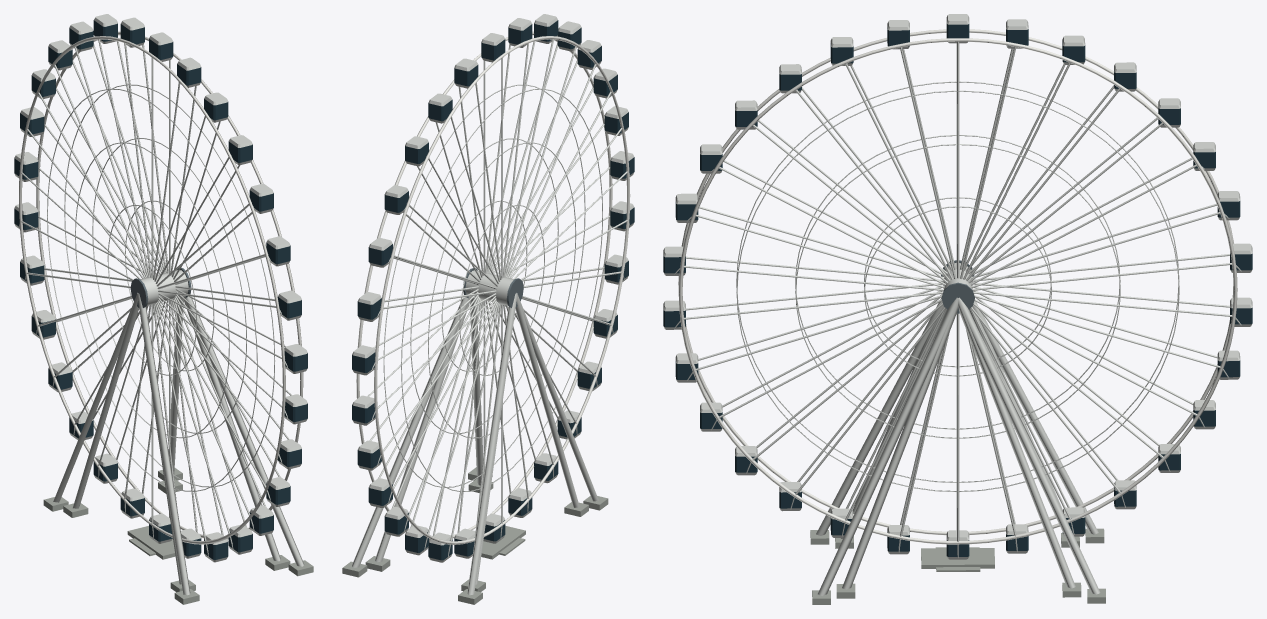
The model's file is the-wheel-icon-park-far.glb.
3 views of the same model, side by side, from view 1: azimuth 30°, elevation 25°; view 2: azimuth 150°, elevation 25°; view 3: azimuth 270°, elevation 25° (orthographic). The views are drawn at different scales.
Visible parts, largest first — view 1: the-wheel-icon-park-0-structure, the-wheel-icon-park-0-glass, the-wheel-icon-park-0-glow, the-wheel-icon-park-0-concrete, the-wheel-icon-park-0-light, the-wheel-icon-park-0-hardware; view 2: the-wheel-icon-park-0-structure, the-wheel-icon-park-0-glass, the-wheel-icon-park-0-glow, the-wheel-icon-park-0-concrete, the-wheel-icon-park-0-light, the-wheel-icon-park-0-hardware; view 3: the-wheel-icon-park-0-structure, the-wheel-icon-park-0-glass, the-wheel-icon-park-0-light, the-wheel-icon-park-0-glow, the-wheel-icon-park-0-concrete.
Boxes of the visible parts, box(x1,y1,x2,y2) form: the-wheel-icon-park-0-structure: box(14, 14, 307, 595); the-wheel-icon-park-0-glass: box(14, 20, 307, 559); the-wheel-icon-park-0-glow: box(19, 36, 285, 544); the-wheel-icon-park-0-concrete: box(43, 468, 313, 604); the-wheel-icon-park-0-light: box(36, 31, 303, 539); the-wheel-icon-park-0-hardware: box(130, 268, 191, 307); the-wheel-icon-park-0-structure: box(352, 14, 634, 595); the-wheel-icon-park-0-glass: box(352, 20, 634, 560); the-wheel-icon-park-0-glow: box(374, 36, 630, 544); the-wheel-icon-park-0-concrete: box(342, 467, 608, 604); the-wheel-icon-park-0-light: box(356, 31, 612, 539); the-wheel-icon-park-0-hardware: box(463, 268, 523, 307); the-wheel-icon-park-0-structure: box(663, 14, 1252, 595); the-wheel-icon-park-0-glass: box(663, 24, 1252, 556); the-wheel-icon-park-0-light: box(678, 38, 1237, 544); the-wheel-icon-park-0-glow: box(678, 29, 1237, 535); the-wheel-icon-park-0-concrete: box(810, 528, 1105, 604).
Bounding box in the file's own units: 33.81 × 122 × 120.
